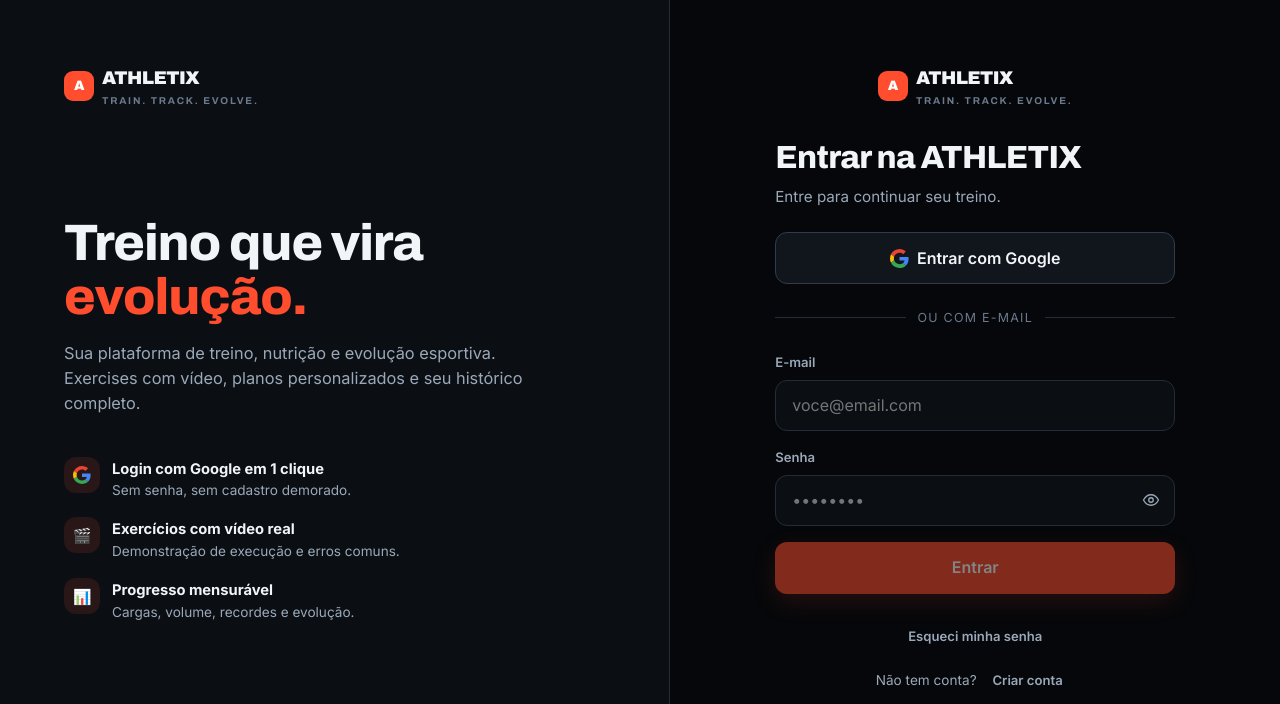
login com Google — provedor desabilitado › mantém o usuário no app e mostra uma mensagem compreensível
Click the button "Entrar com Google".
click(975, 258)  # box [775, 232, 1175, 284]
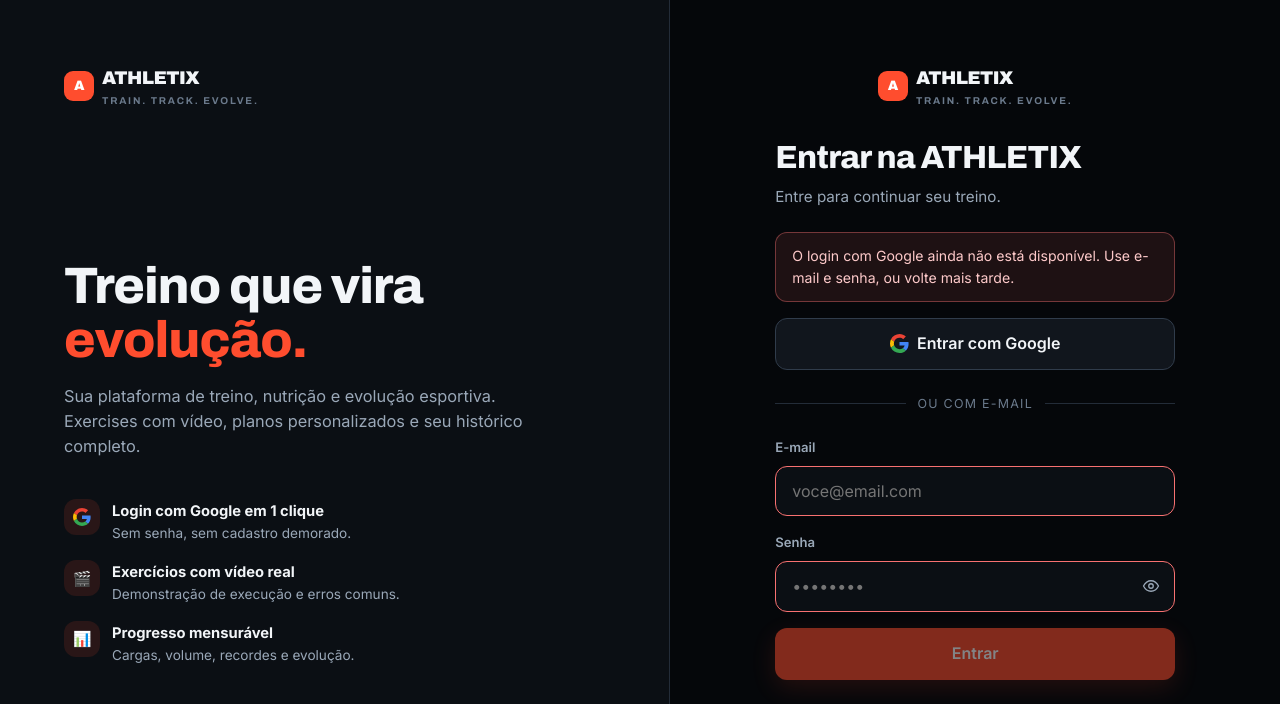
Expected: the button "Entrar com Google" is shown, [775, 318, 1175, 370]
Expected: the text "Use e-mail e senha, ou volte mais tarde" is shown, [792, 247, 1149, 286]
